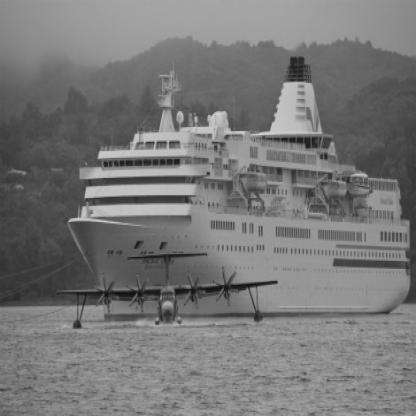US2: (56, 253, 279, 330)
